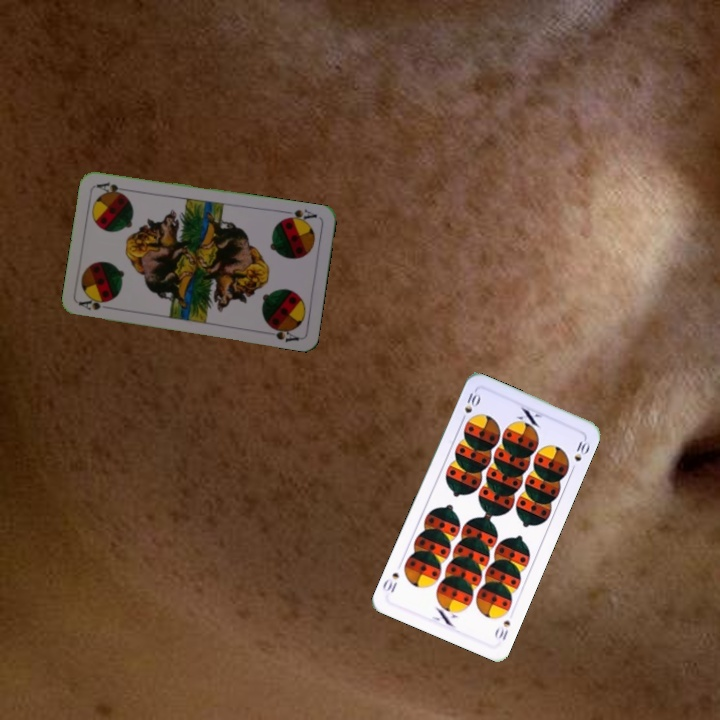S10: (457, 386, 483, 425), (490, 616, 513, 643)
SA: (279, 205, 320, 226), (75, 294, 116, 313)
